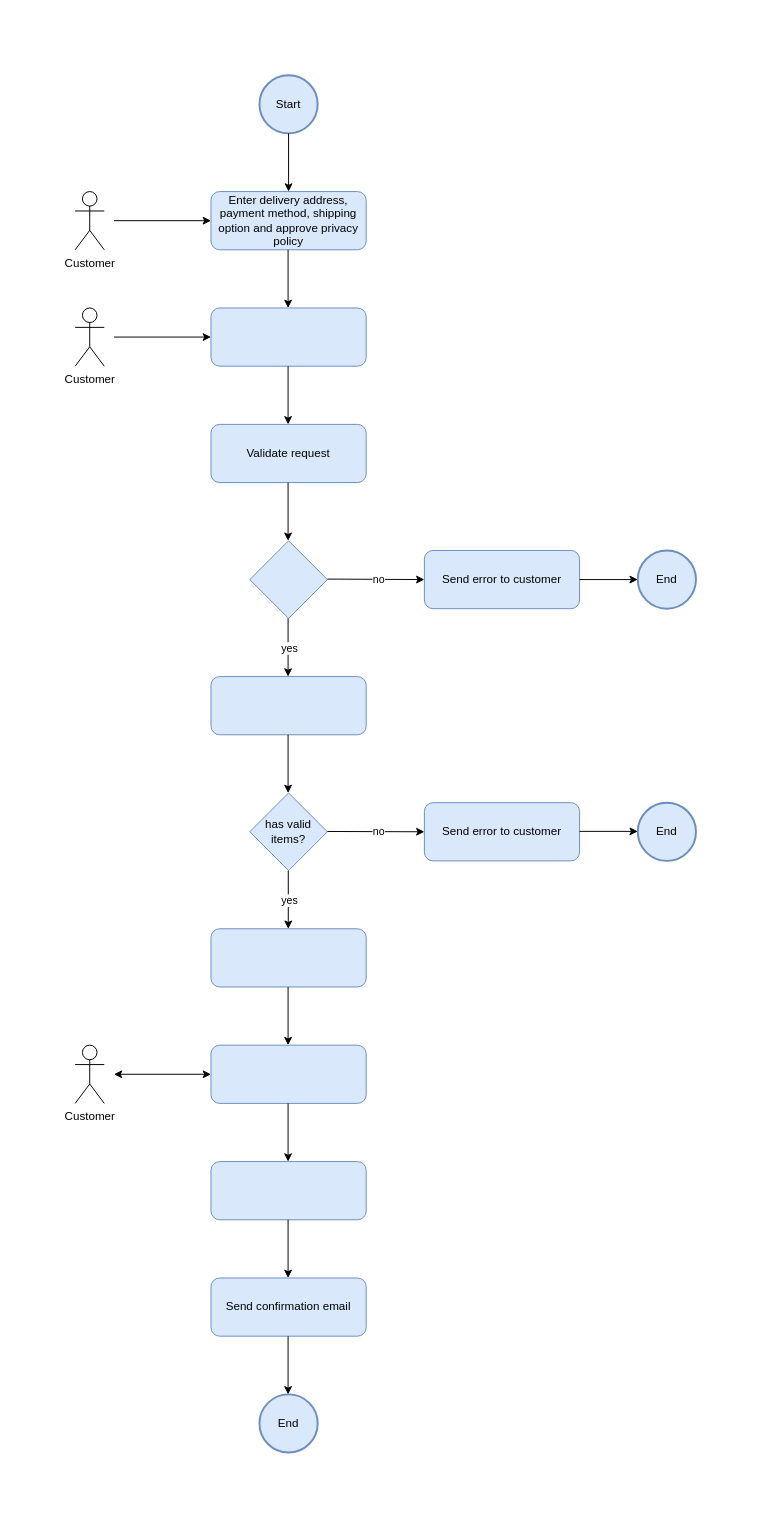
This 770x1527 diagram has some shape labels left out. The shapes that lost their labels are listed below. From the top down, each one's centre as x and y in pixels, then its label:
At (288,336): "Request order overview".
At (288,579): "is valid?".
At (288,705): "Check item IDs of the request".
At (288,957): "Get shipping details".
At (288,1073): "Request order approval".
At (288,1190): "Create order".
